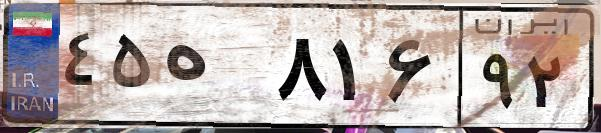1: (330, 28, 385, 110)
2: (525, 38, 570, 115)
4: (57, 26, 110, 100)
5: (110, 28, 158, 98)
6: (385, 28, 445, 110)
8: (270, 28, 330, 110)
9: (475, 38, 525, 113)
ه: (158, 20, 270, 120)
